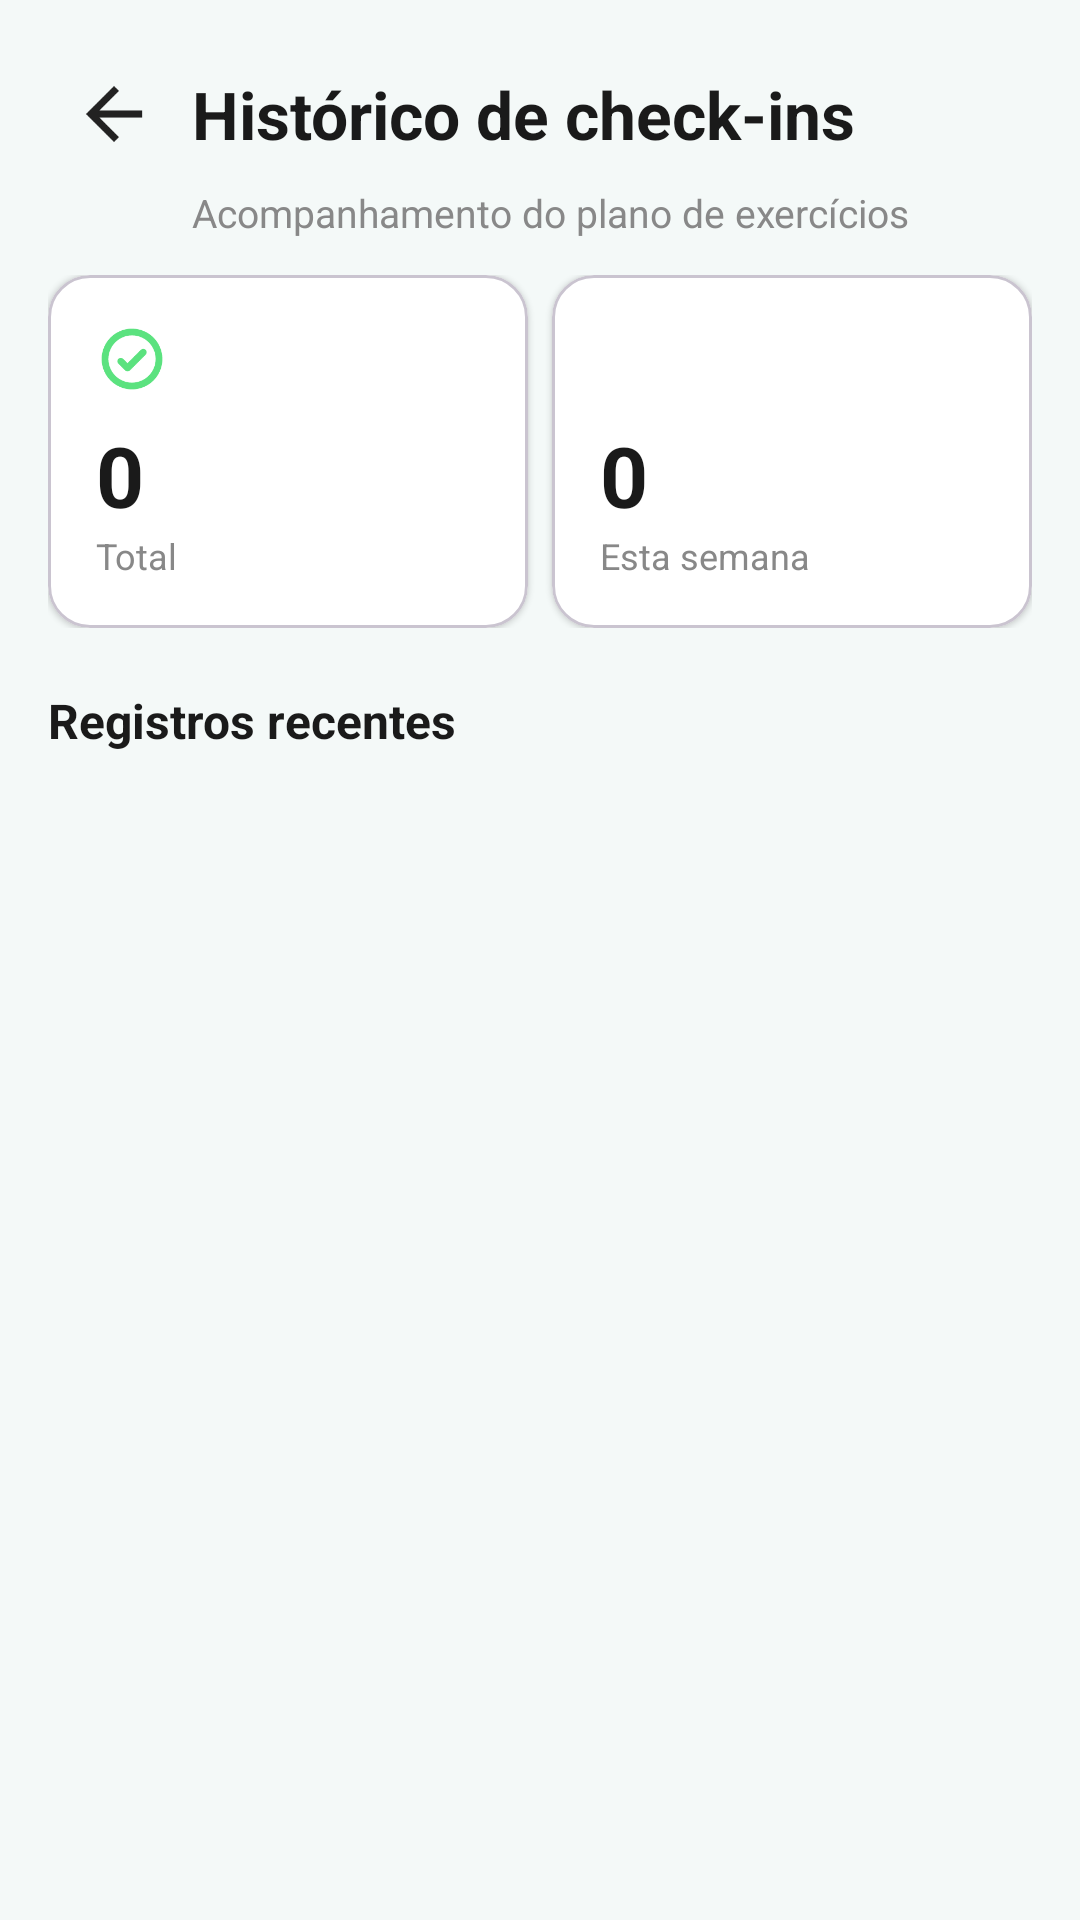

Where to tap for icons on this 1080px×1920px app screen, as (x=x, y=y):
arrow back: (x=114, y=114)
hist check: (x=132, y=359)
